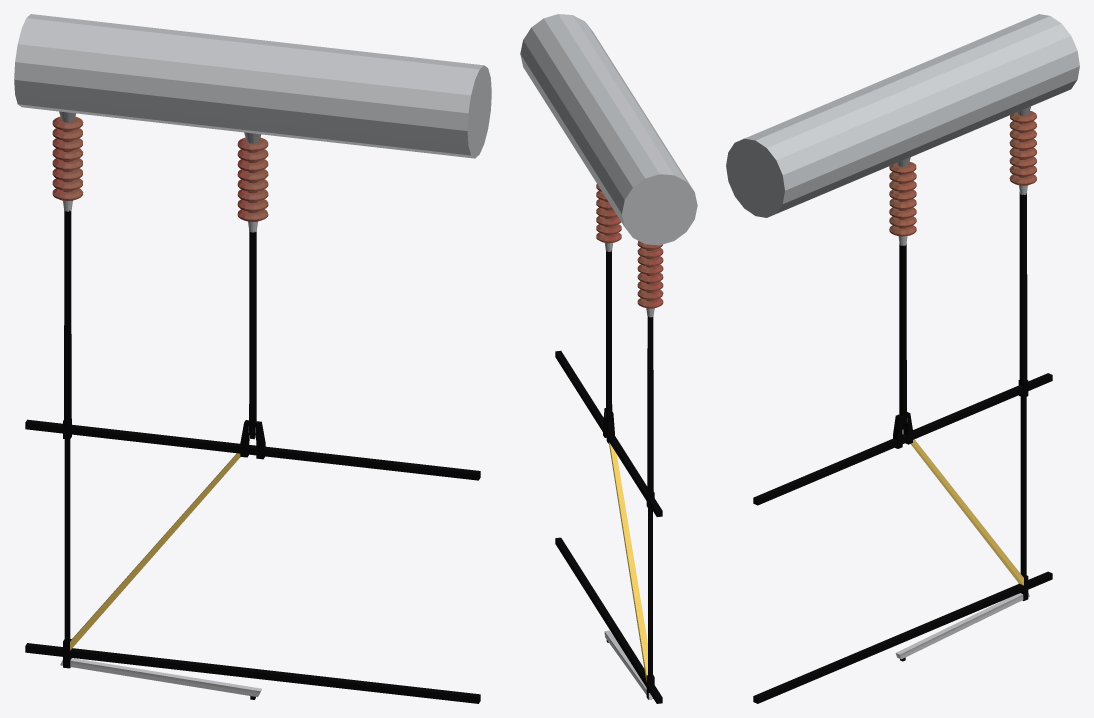
Rendered from 45d_moretop_3_1.obj.
3 views of the same model, side by side, from view 1: azimuth 30°, elevation 25°; view 2: azimuth 150°, elevation 25°; view 3: azimuth 270°, elevation 25° (orthographic). The views are drawn at different scales.
Parts seen in each view (by area): view 1: moretop_1.002, moretop_1.004, moretop_1.003; view 2: moretop_1.002, moretop_1.004, moretop_1.003; view 3: moretop_1.002, moretop_1.004, moretop_1.003.
Part boxes in pixels (bbox=[...]): moretop_1.002: bbox=[14, 14, 491, 158]; moretop_1.004: bbox=[25, 419, 480, 703]; moretop_1.003: bbox=[52, 111, 268, 432]; moretop_1.002: bbox=[520, 14, 697, 245]; moretop_1.004: bbox=[555, 350, 662, 703]; moretop_1.003: bbox=[596, 184, 663, 492]; moretop_1.002: bbox=[726, 14, 1079, 217]; moretop_1.004: bbox=[753, 373, 1052, 703]; moretop_1.003: bbox=[889, 106, 1036, 424].
Size of the model in its own units: 1.7 by 3.08 by 1.7.
4 materials, 4 textured.
